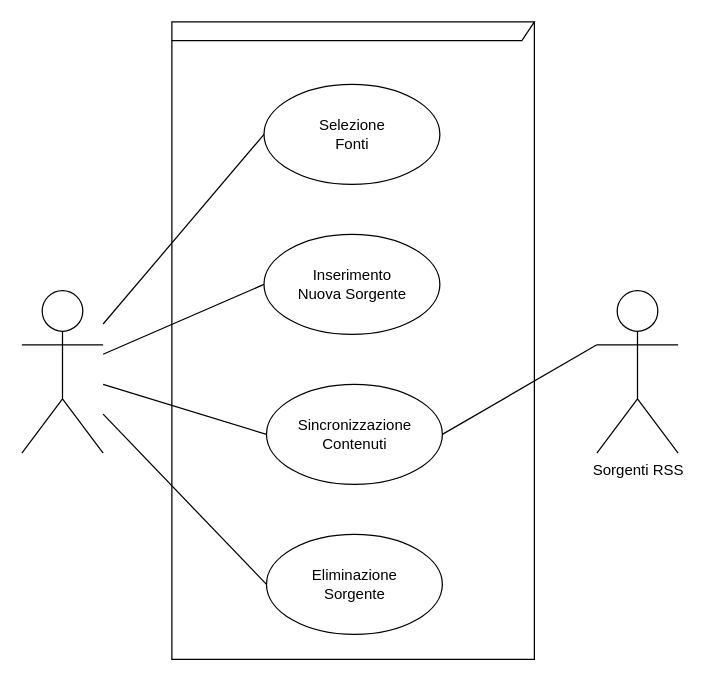
This 705x681 diagram has some shape labels left out. The shapes that lost their labels are listed below. From the top down, each one's box as (x1, y1, x2, y2) in pixels, then its label:
(171, 21, 534, 659): Gestione Sorgenti Feed
(21, 289, 103, 453): Lettore
